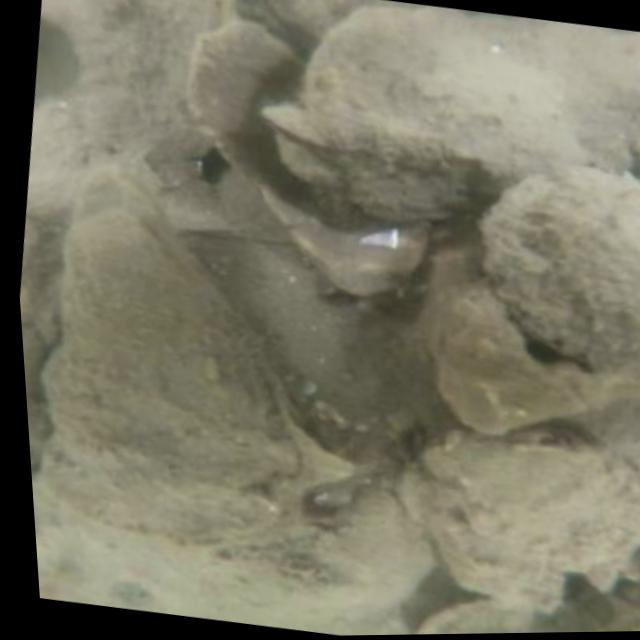Oyster-Closed: (50, 169, 286, 545)
Oyster-Indeterminate: (180, 16, 431, 302), (295, 8, 640, 189), (438, 404, 640, 606), (482, 167, 640, 394), (432, 288, 588, 430), (277, 125, 472, 222), (272, 486, 424, 610)
